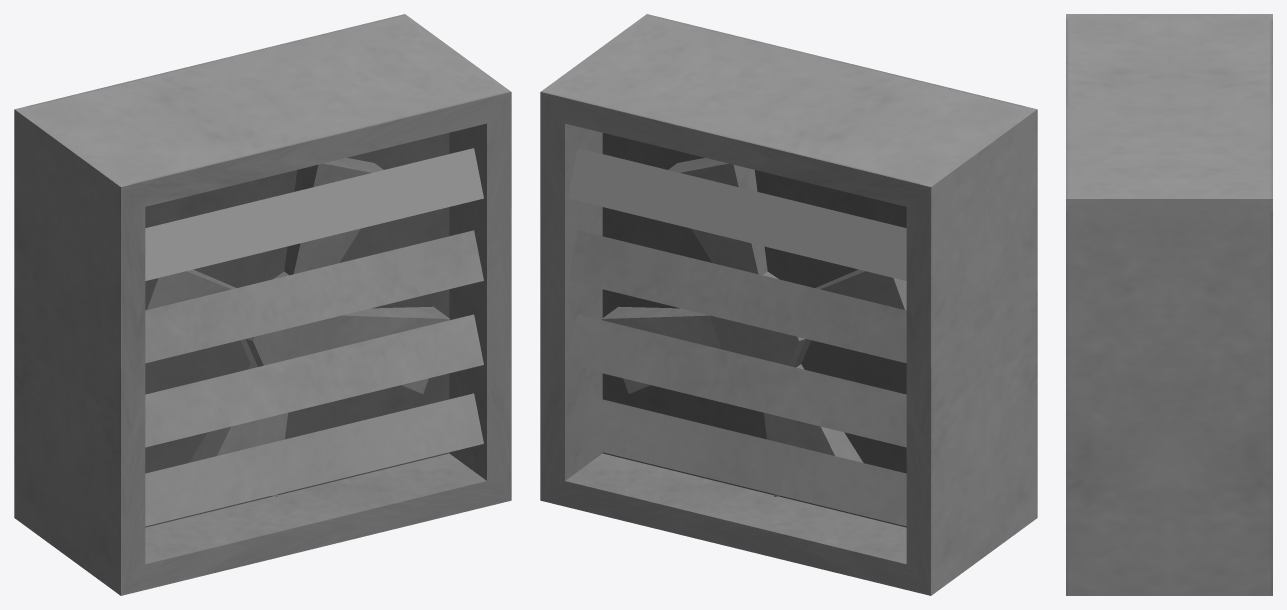
The model's file is DobleVentilador.fbx.
3 views of the same model, side by side, from view 1: azimuth 30°, elevation 25°; view 2: azimuth 150°, elevation 25°; view 3: azimuth 270°, elevation 25° (orthographic). The views are drawn at different scales.
Visible parts, largest first — view 1: Cube.111, Cube.112; view 2: Cube.111, Cube.112; view 3: Cube.111.
Boxes of the visible parts, x1=… form: Cube.111: x1=14, y1=14, x2=511, y2=595; Cube.112: x1=145, y1=157, x2=449, y2=496; Cube.111: x1=540, y1=14, x2=1037, y2=595; Cube.112: x1=602, y1=157, x2=906, y2=496; Cube.111: x1=1066, y1=14, x2=1272, y2=595.
Size of the model in its own units: 103 by 103 by 48.61.
1 material, 1 textured.
